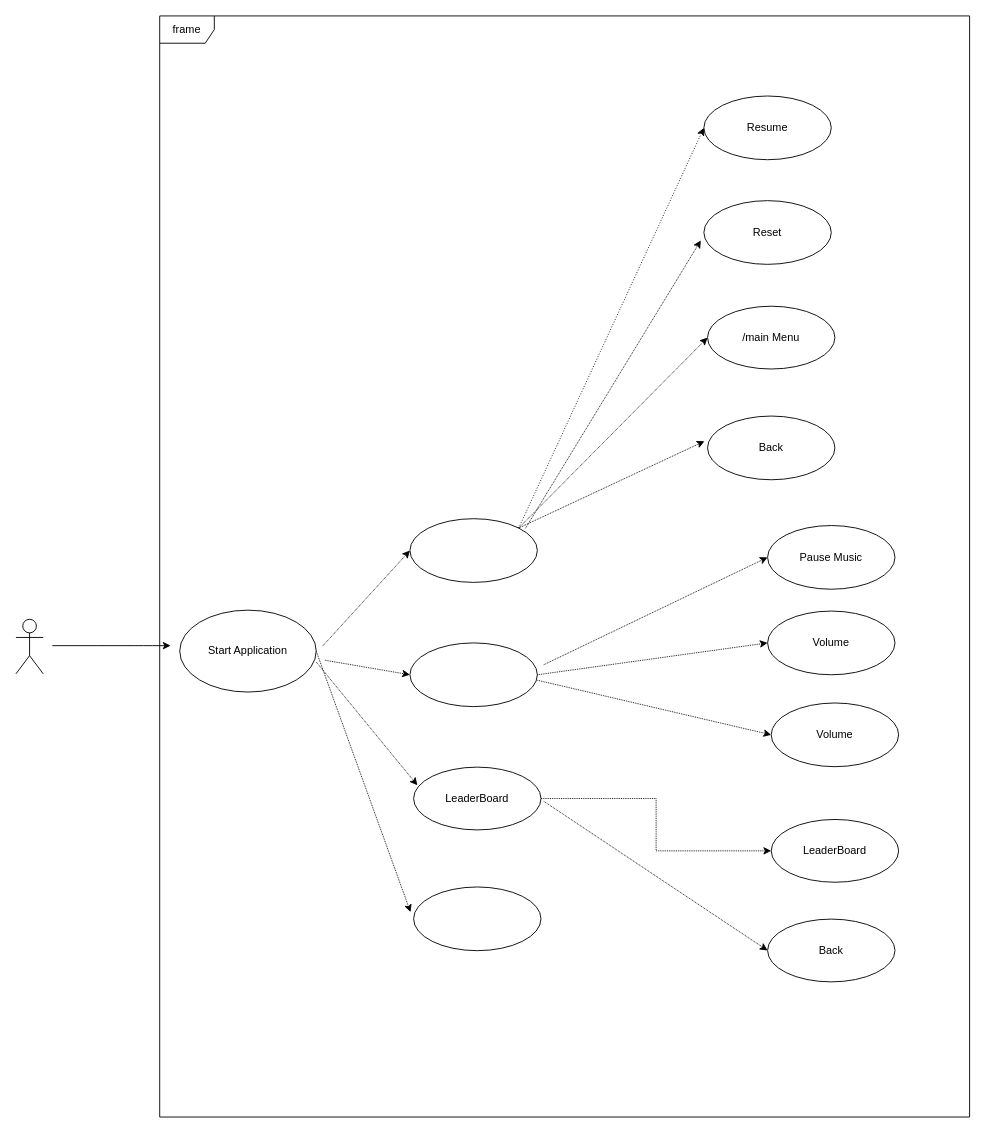
Some shapes in this 986 by 1133 pixel diagram are drawn without their labels. The centre of each missing label's shape, as x and y in pixels:
Actor: (29,646)
Exit: (477,918)
Options: (473,674)
Start: (473,550)
